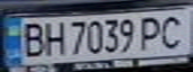0: (84, 17, 106, 55)
3: (103, 16, 121, 54)
7: (66, 17, 87, 55)
9: (118, 16, 139, 53)
B: (15, 19, 48, 58)
C: (157, 12, 190, 50)
H: (39, 19, 69, 57)
P: (136, 14, 166, 52)
